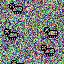sheep: (3, 29, 19, 41), (9, 3, 23, 15), (44, 26, 57, 38), (41, 45, 55, 56)
